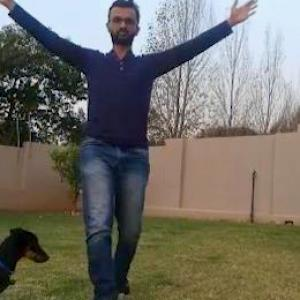takeoff: (0, 0, 267, 296)
